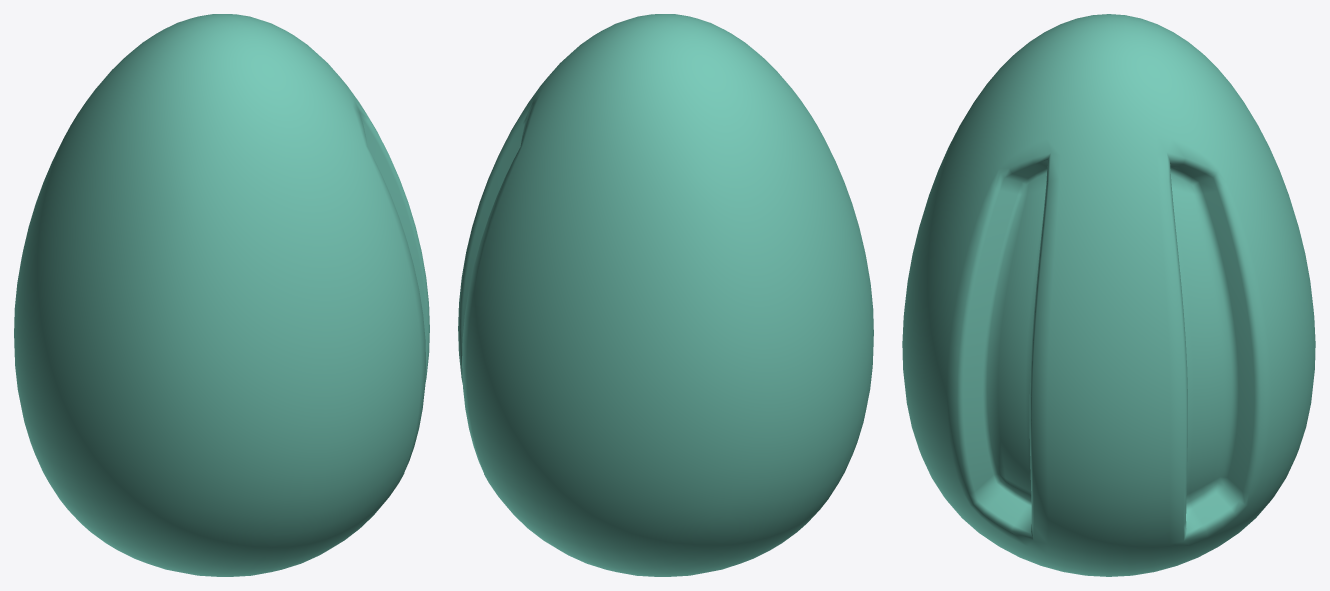
Rendered from Deep Egg 2.fbx.
3 renders of one model, left to right at view 1: azimuth 30°, elevation 25°; view 2: azimuth 150°, elevation 25°; view 3: azimuth 270°, elevation 25°, orthographic.
Parts seen in each view (by area): view 1: Slime Egg.003; view 2: Slime Egg.003; view 3: Slime Egg.003.
Boxes of the visible parts, x1=… form: Slime Egg.003: x1=14, y1=14, x2=429, y2=576; Slime Egg.003: x1=458, y1=14, x2=873, y2=576; Slime Egg.003: x1=902, y1=14, x2=1315, y2=576.
Bounding box in the file's own units: 2.56 × 3.62 × 2.56.
